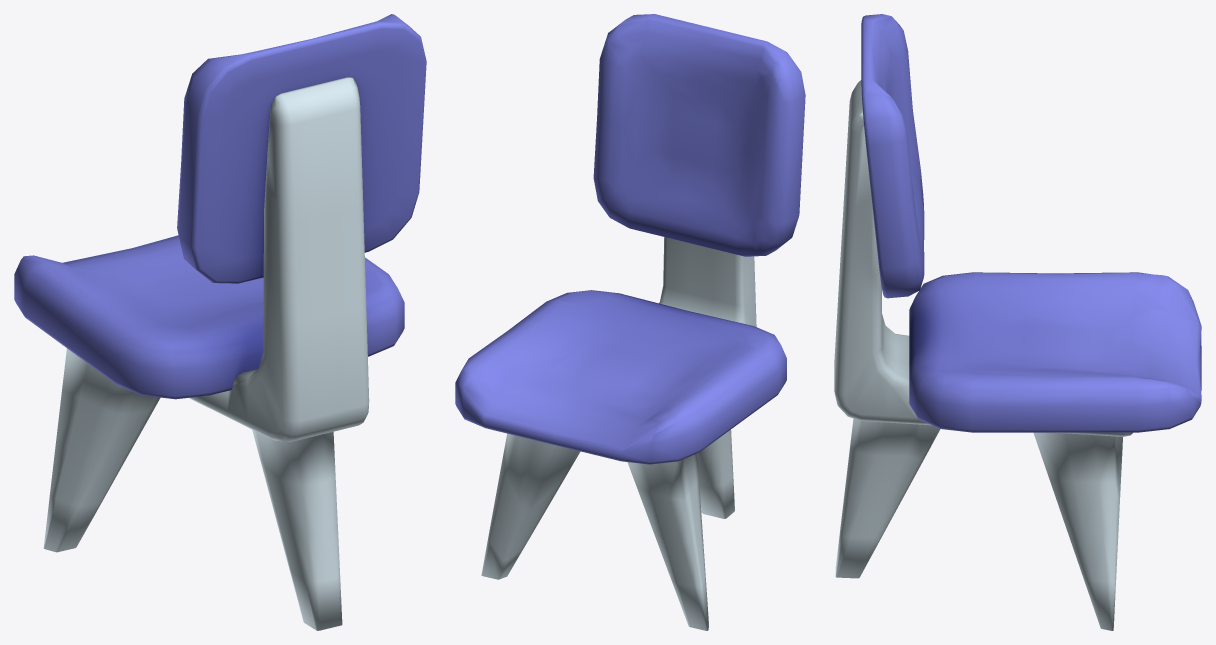
File: example 2.fbx
3 renders of one model, left to right at view 1: azimuth 30°, elevation 25°; view 2: azimuth 150°, elevation 25°; view 3: azimuth 270°, elevation 25°, orthographic. The views are drawn at different scales.
Parts seen in each view (by area): view 1: Cube.002, Cube.001, Cube; view 2: Cube.001, Cube, Cube.002; view 3: Cube, Cube.002, Cube.001.
Part boxes in pixels (left/top/right/bottom): Cube.002: left=43, top=77, right=369, bottom=630; Cube.001: left=177, top=14, right=426, bottom=283; Cube: left=14, top=235, right=404, bottom=399; Cube.001: left=593, top=14, right=805, bottom=256; Cube: left=455, top=290, right=786, bottom=464; Cube.002: left=481, top=237, right=756, bottom=630; Cube: left=909, top=272, right=1201, bottom=432; Cube.002: left=834, top=80, right=1132, bottom=630; Cube.001: left=861, top=14, right=924, bottom=298.
Bounding box in the file's own units: 148 × 292 × 186.
